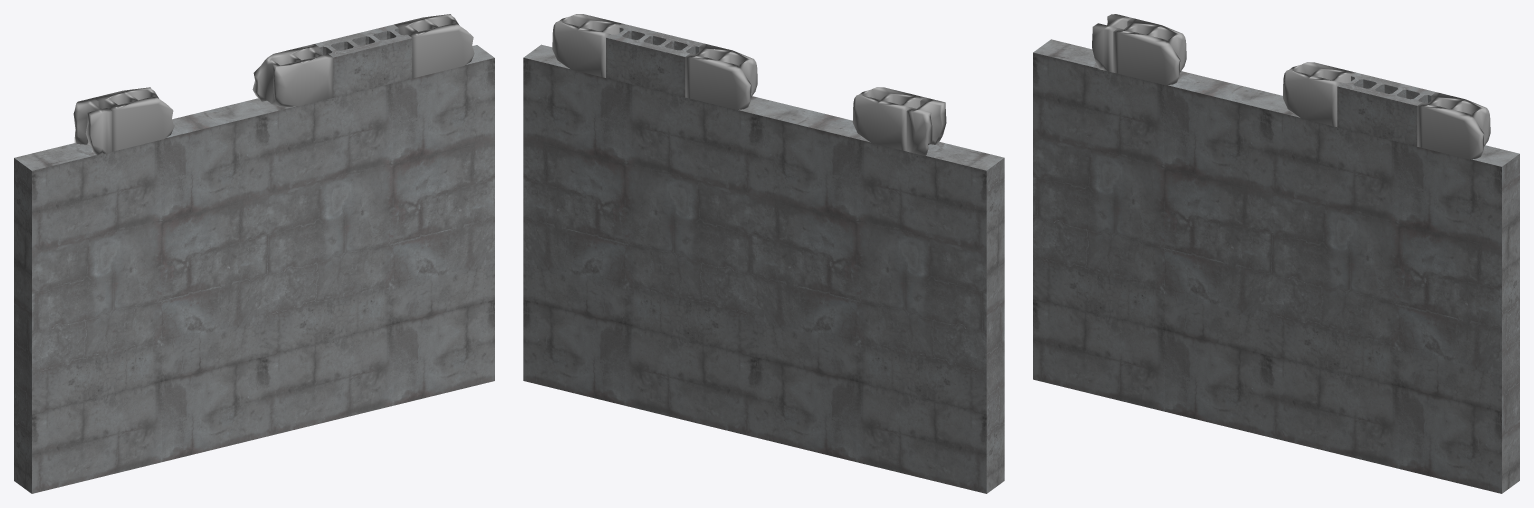
The model's file is wall_Full_01_Broken_mid_02.fbx.
The picture shows the model from 3 angles, left to right: view 1: azimuth 30°, elevation 25°; view 2: azimuth 150°, elevation 25°; view 3: azimuth 330°, elevation 25°; orthographic projection.
Visible parts, largest first — view 1: wall_Full_01_Broken_mid_02; view 2: wall_Full_01_Broken_mid_02; view 3: wall_Full_01_Broken_mid_02.
Boxes of the visible parts, x1,y1,x2,y2 form: wall_Full_01_Broken_mid_02: (14,14,494,493); wall_Full_01_Broken_mid_02: (523,14,1004,493); wall_Full_01_Broken_mid_02: (1033,14,1519,493).
Size of the model in its own units: 300 by 225 by 20.93.
2 materials, 1 textured.
